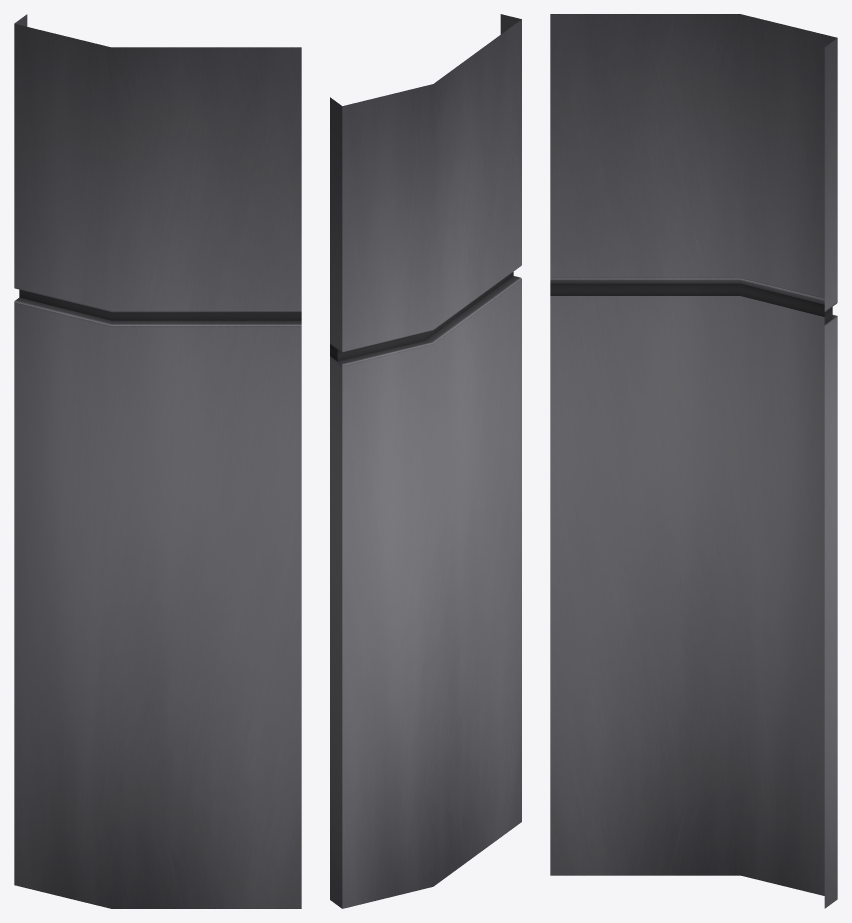
The model's file is XOB_ROT_HB.fbx.
The picture shows the model from 3 angles, left to right: view 1: azimuth 90°, elevation 25°; view 2: azimuth 150°, elevation 25°; view 3: azimuth 270°, elevation 25°; orthographic projection. The views are drawn at different scales.
Parts seen in each view (by area): view 1: XOB_ROT_HB; view 2: XOB_ROT_HB; view 3: XOB_ROT_HB.
Part boxes in pixels (left/top/right/bottom): XOB_ROT_HB: left=14, top=14, right=301, bottom=908; XOB_ROT_HB: left=330, top=14, right=521, bottom=908; XOB_ROT_HB: left=550, top=14, right=837, bottom=908.
Bounding box in the file's own units: 0.375 × 4.5 × 1.36.
